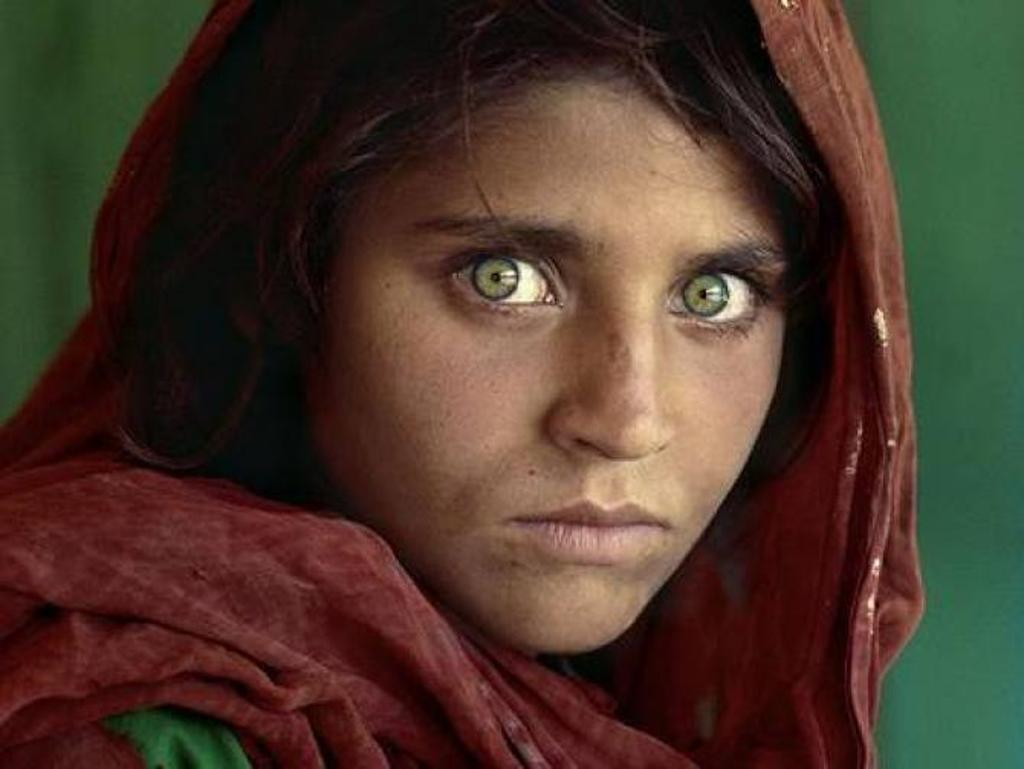face: (312, 30, 784, 652)
